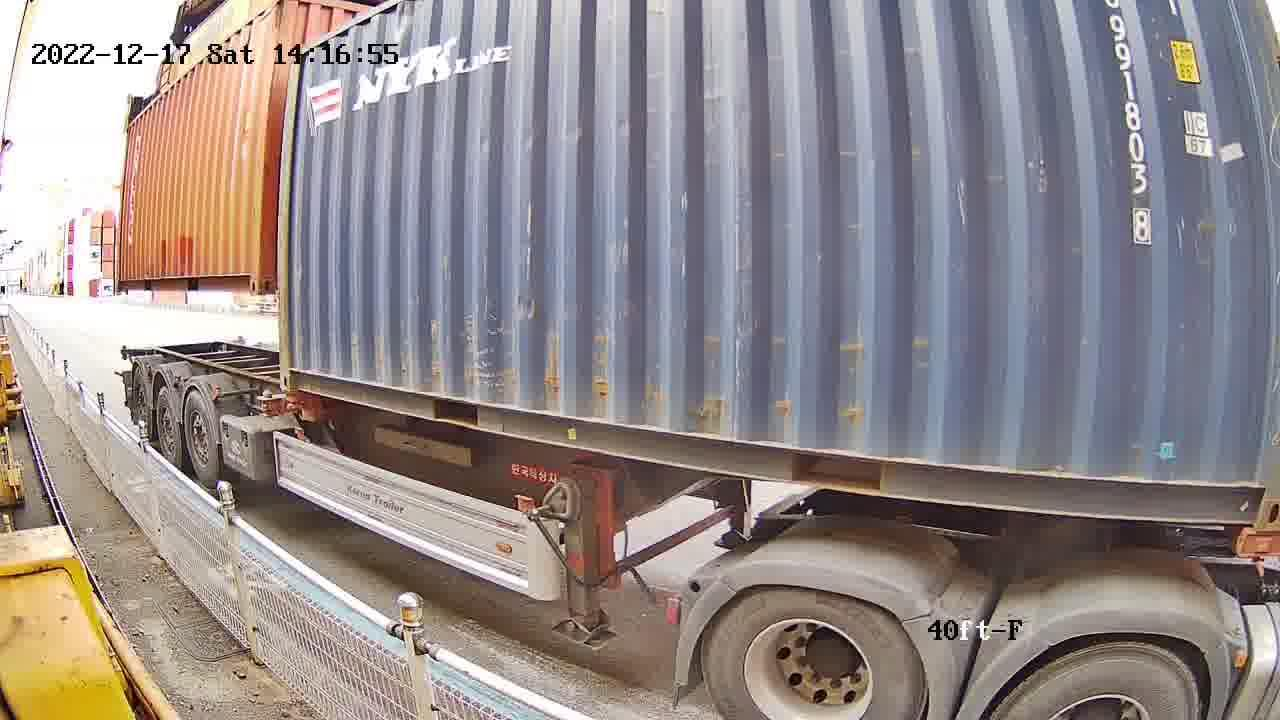Cone: (1232, 526, 1279, 568), (255, 386, 277, 414), (282, 393, 310, 412)
Hole_L: (279, 354, 316, 394), (258, 260, 277, 296)
Hole_R: (1211, 458, 1278, 527), (228, 262, 259, 295)
Tire: (701, 583, 928, 714), (996, 645, 1201, 719)
